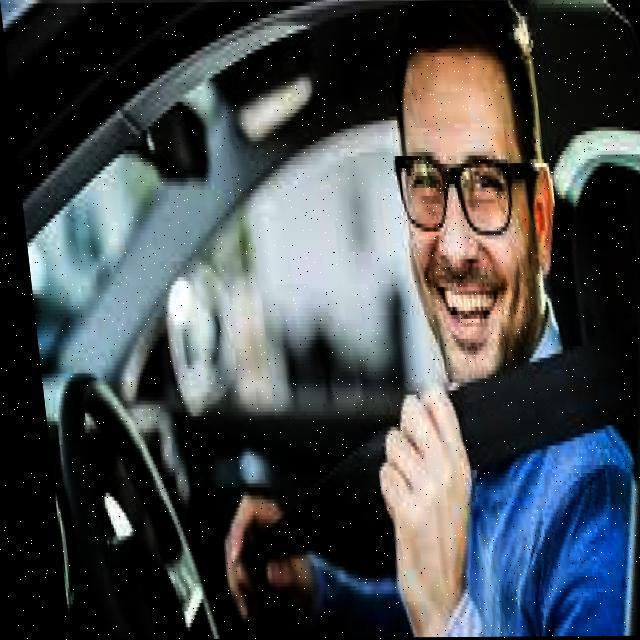seatbelt: (365, 319, 640, 638)
